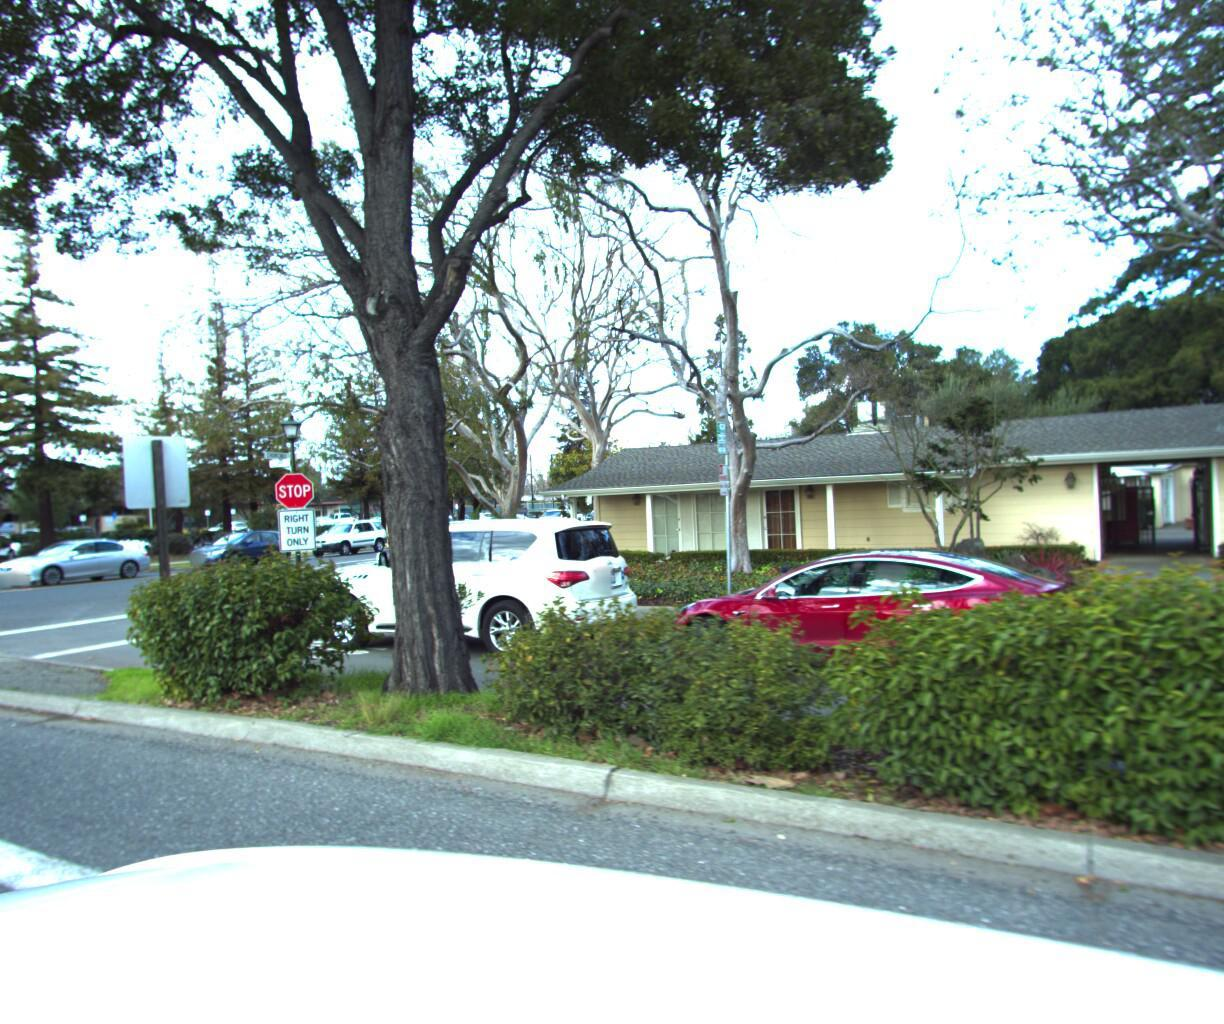car: (639, 534, 1085, 702), (289, 506, 664, 666), (0, 528, 162, 588), (176, 521, 301, 566), (299, 513, 397, 551), (528, 499, 588, 529)
